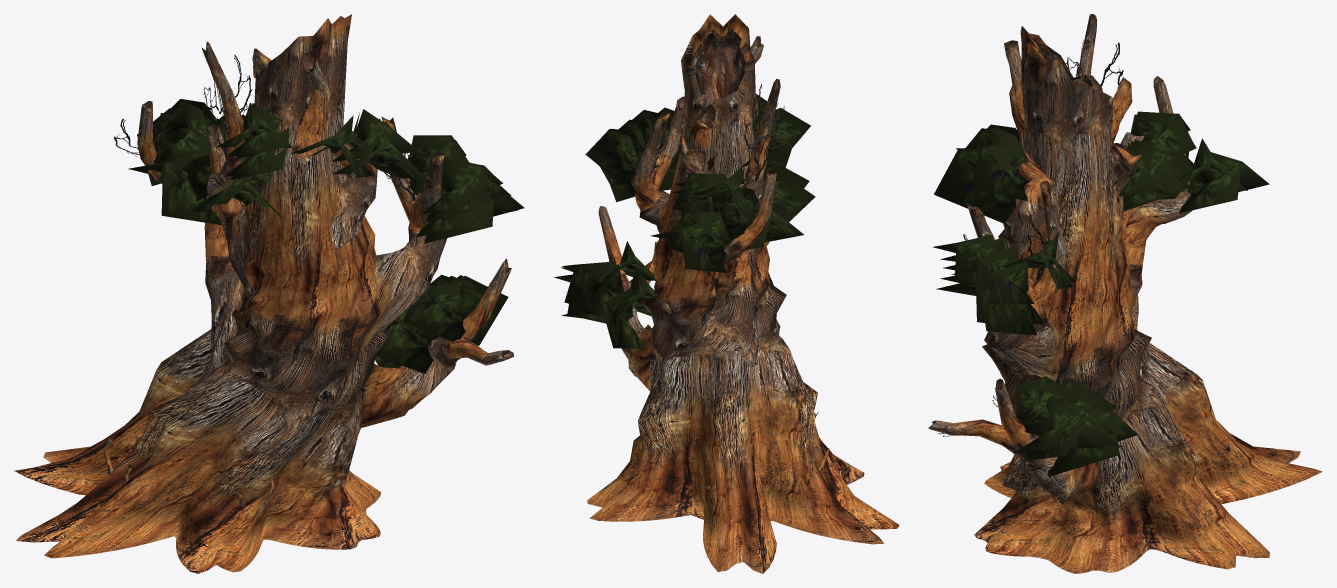
Rendered from BristleconePine_RT.fbx.
3 views of the same model, side by side, from view 1: azimuth 30°, elevation 25°; view 2: azimuth 150°, elevation 25°; view 3: azimuth 270°, elevation 25° (orthographic). The views are drawn at different scales.
Parts seen in each view (by area): view 1: BristleconePine_RT, BristleconePine_RT_Leafs; view 2: BristleconePine_RT, BristleconePine_RT_Leafs; view 3: BristleconePine_RT, BristleconePine_RT_Leafs.
Boxes of the visible parts, x1=… form: BristleconePine_RT: x1=14, y1=14, x2=513, y2=573; BristleconePine_RT_Leafs: x1=114, y1=54, x2=524, y2=373; BristleconePine_RT: x1=587, y1=14, x2=899, y2=573; BristleconePine_RT_Leafs: x1=554, y1=84, x2=815, y2=348; BristleconePine_RT: x1=928, y1=14, x2=1322, y2=573; BristleconePine_RT_Leafs: x1=933, y1=40, x2=1269, y2=476.
Size of the model in its own units: 9.84 by 7.77 by 11.06.
